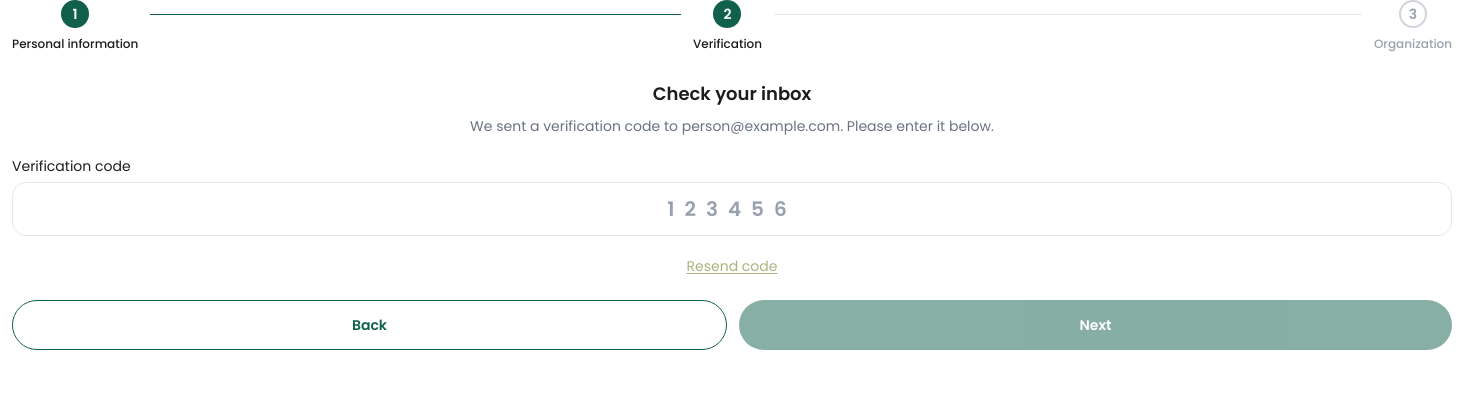
Test: SignUpVerifyForm › surfaces a success message after a resend
Step 1. Click the button "Resend code" → [732, 266], box [12,256,1452,276]
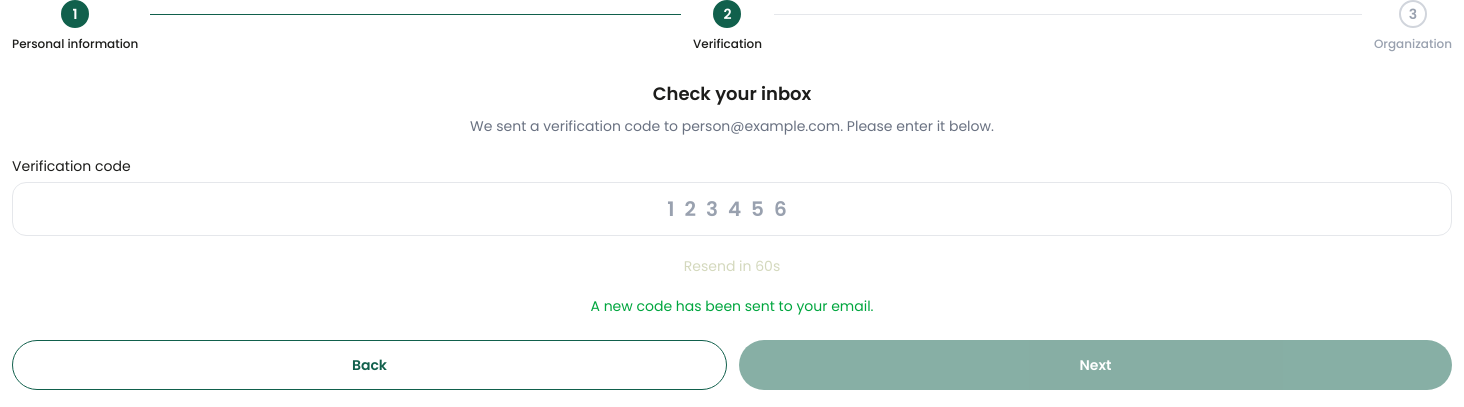
Now the text "A new code has been sent to your email." is shown, box [590,296,874,316]
